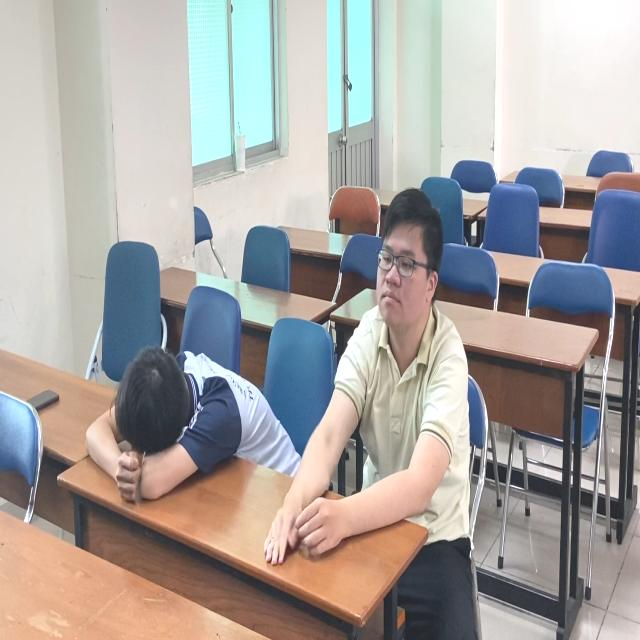sleep: (79, 328, 295, 525)
